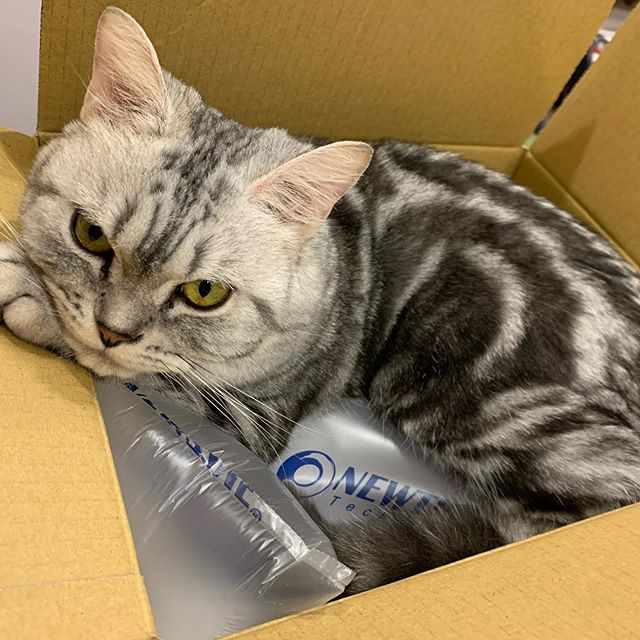cat: (14, 5, 377, 396)
